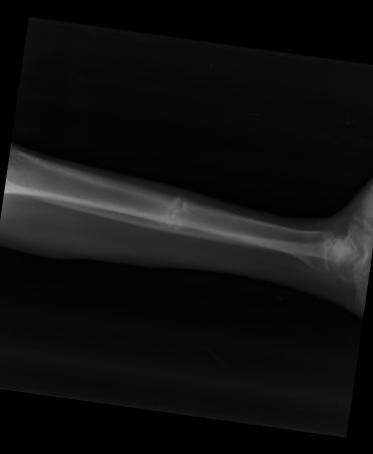fractured: (162, 195, 191, 231)
